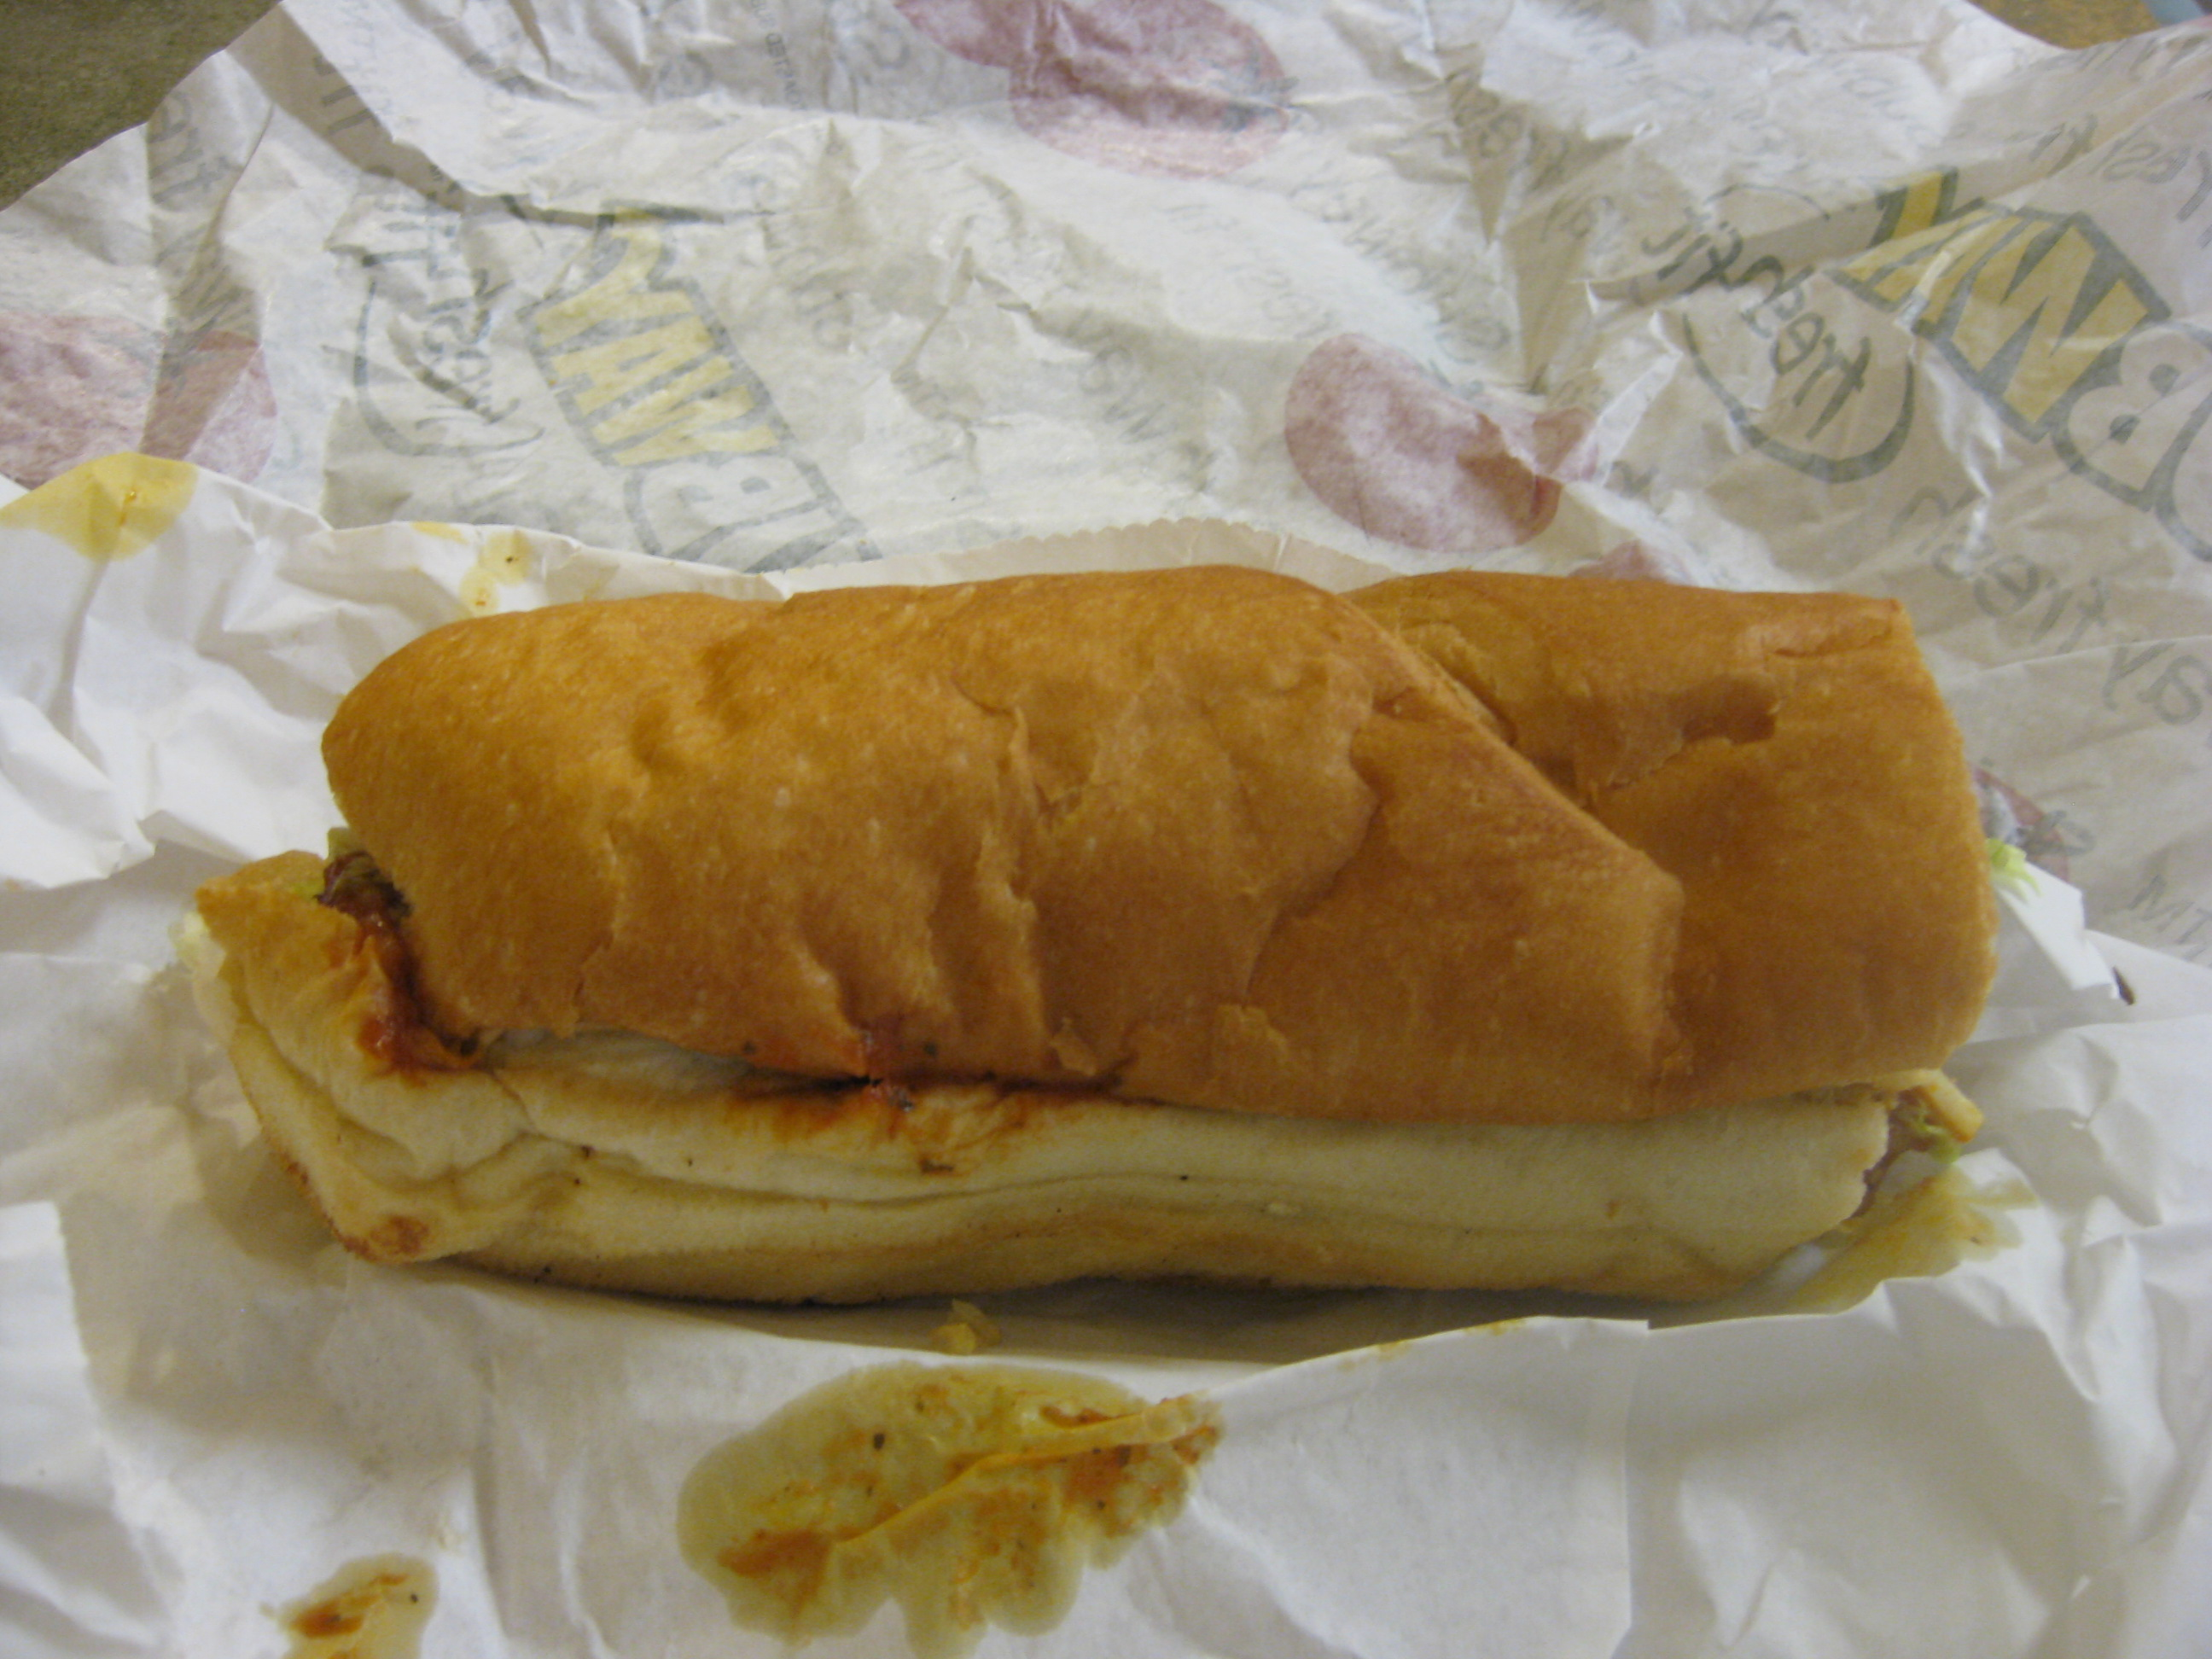sub: (195, 546, 2080, 1317)
